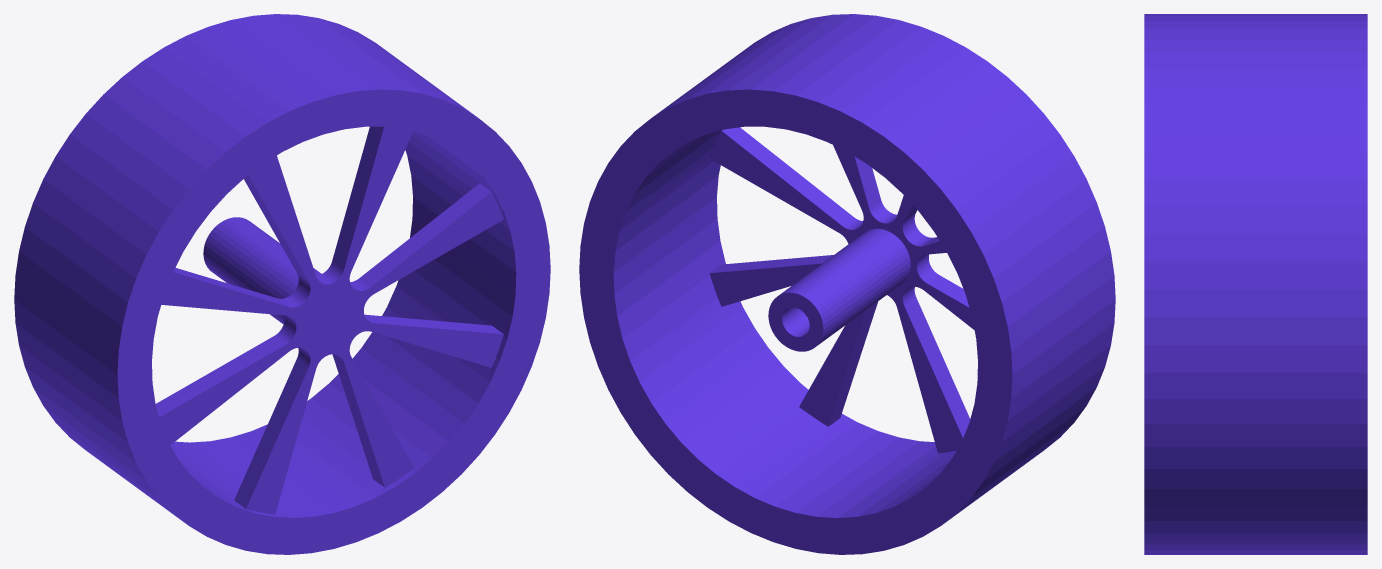
File: wheels.dae
The picture shows the model from 3 angles, left to right: view 1: azimuth 30°, elevation 25°; view 2: azimuth 150°, elevation 25°; view 3: azimuth 270°, elevation 25°; orthographic projection. The views are drawn at different scales.
Parts seen in each view (by area): view 1: roueBleu; view 2: roueBleu; view 3: roueBleu.
Part boxes in pixels (x1,y1,x2,y2): roueBleu: (14,14,550,554); roueBleu: (579,14,1115,554); roueBleu: (1144,14,1367,554).
Size of the model in its own units: 0.063 by 0.026 by 0.063.
